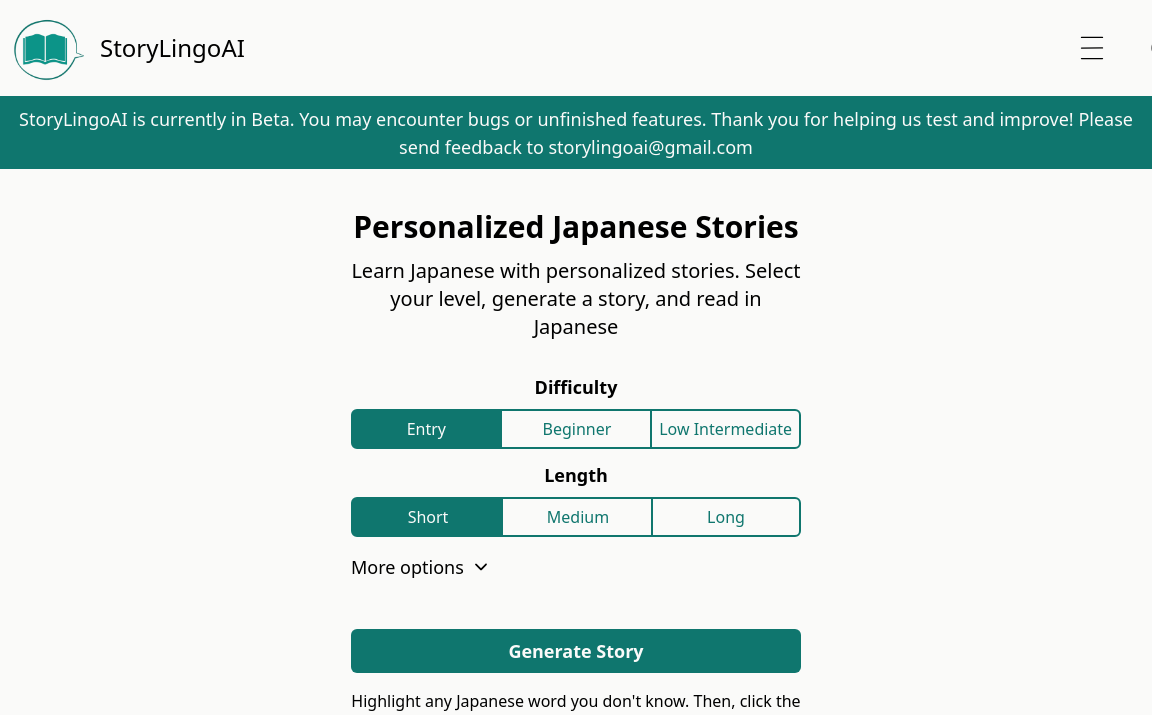
Scenario: Menu Options › clicking add to list button adds word to list
The width and height of the screenshot is (1152, 715).
Click the element with id "menu-burger-id": [1092, 48] box [1077,33,1107,63]
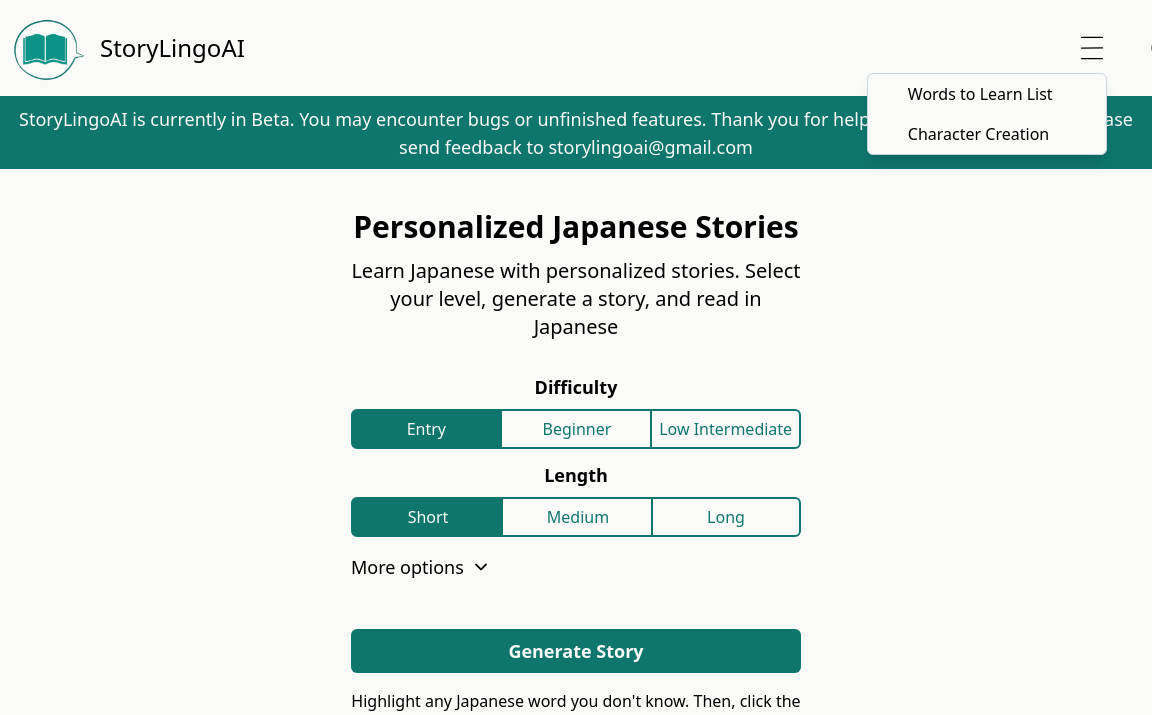
Click the text with id "words-learn-id": [981, 94] box [908,83,1053,105]
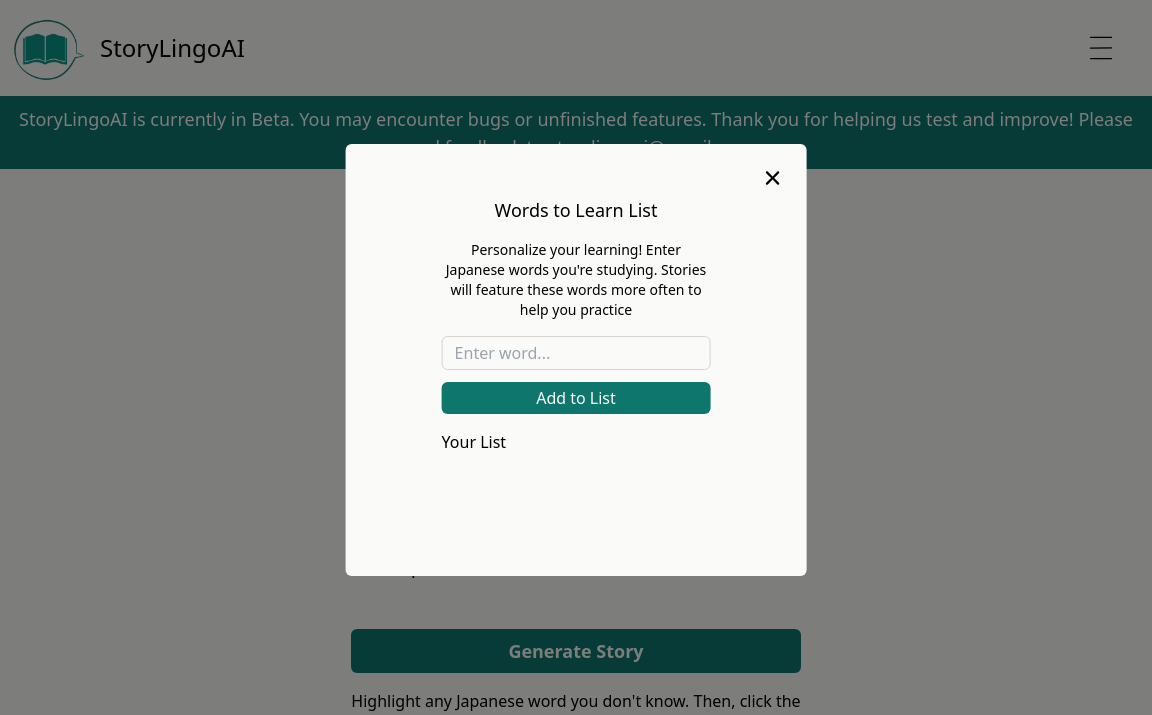
In the field with id "word-input": [577, 353] box [442,336,711,370], type "testWord"
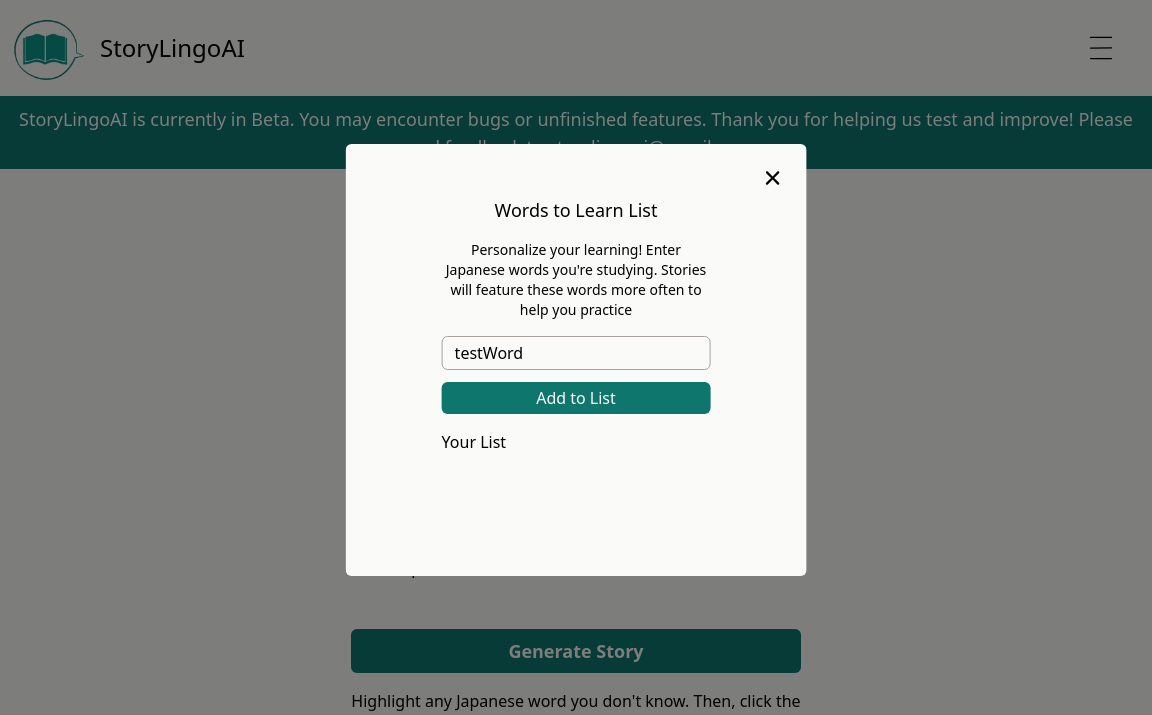
Click the button with id "add-to-list-button": [577, 398] box [442,382,711,414]
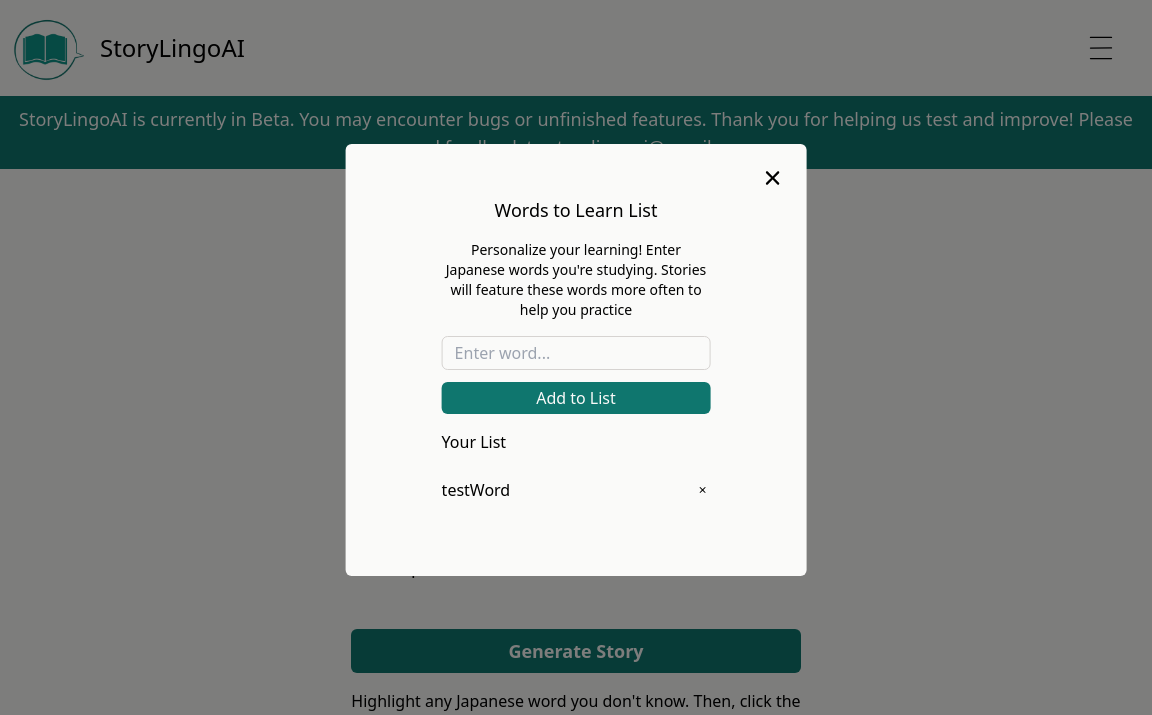
Expected: the text "testWord" is shown, [442,478,510,502]
